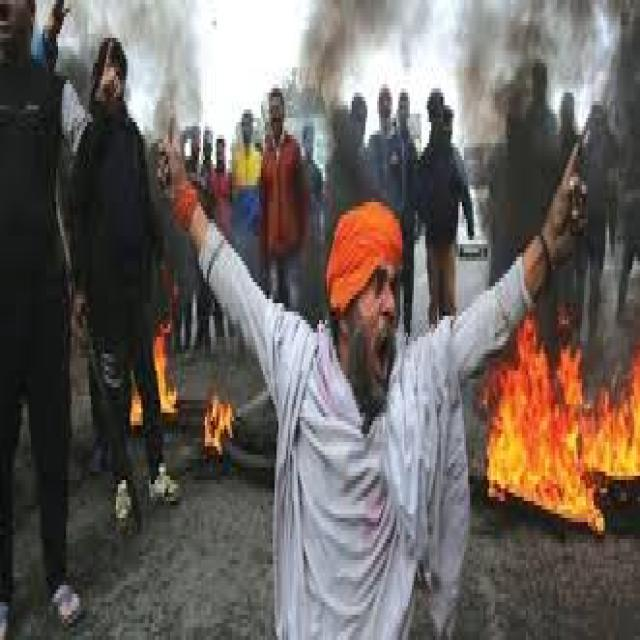Fire: (487, 314, 640, 536), (154, 320, 180, 415), (202, 392, 234, 456), (130, 388, 142, 430)
Smoke: (459, 0, 640, 204), (297, 0, 397, 119), (129, 1, 206, 122), (399, 0, 436, 89), (70, 2, 98, 92)
